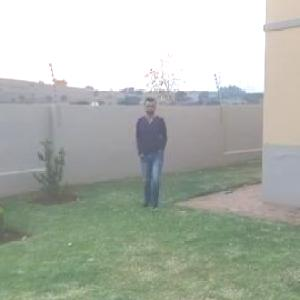follow: (134, 94, 174, 209)
